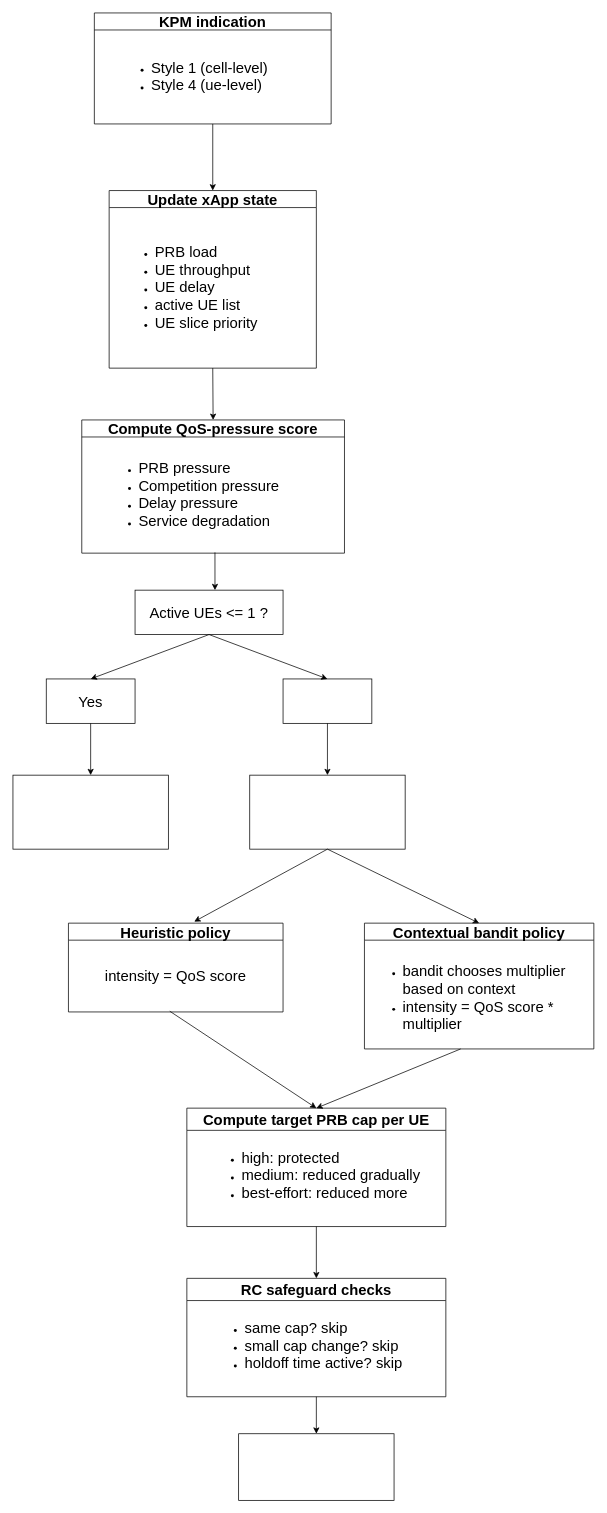
Image size: 607x1513. Some labels were removed from this diagram. Each missing label, with the centre of its shape:
No: point (327, 700)
Relax caps to 100% No useful competition: point (90, 811)
Select policy mode Heuristic or Bandit: point (327, 811)
Send E2SM-RC PRB quota: point (316, 1466)
